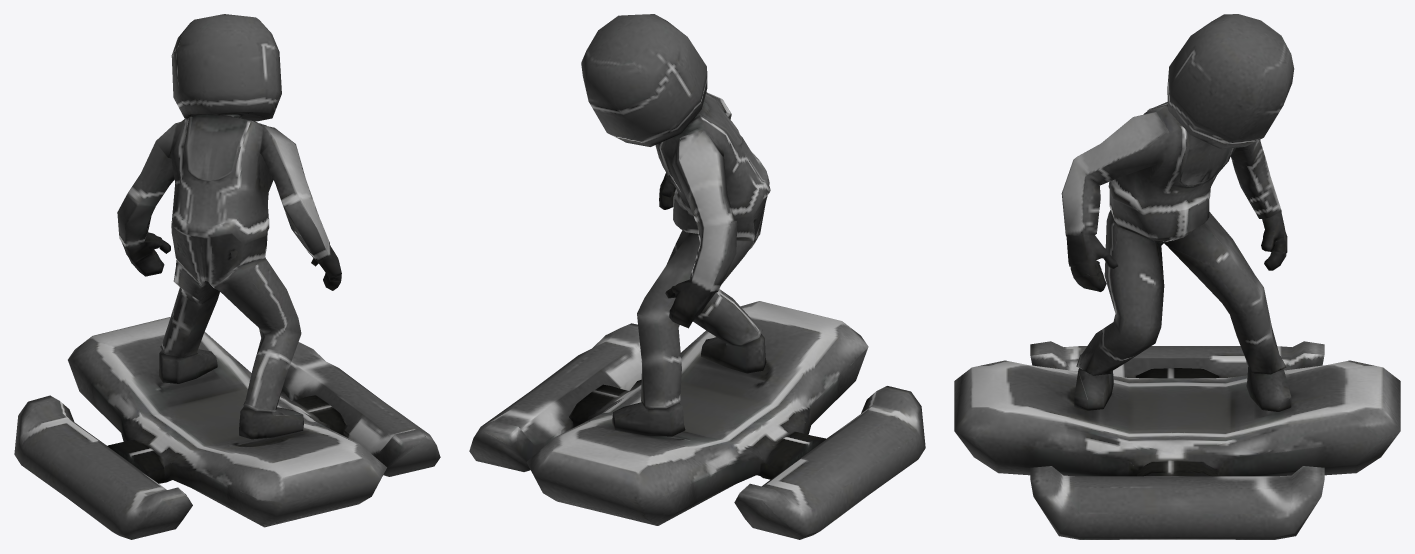
File: hero.glb
The picture shows the model from 3 angles, left to right: view 1: azimuth 30°, elevation 25°; view 2: azimuth 150°, elevation 25°; view 3: azimuth 270°, elevation 25°; orthographic projection. The views are drawn at different scales.
Parts seen in each view (by area): view 1: tripo_node_ce176d74-45cd-4167-b8de-e85ff0a9cd06; view 2: tripo_node_ce176d74-45cd-4167-b8de-e85ff0a9cd06; view 3: tripo_node_ce176d74-45cd-4167-b8de-e85ff0a9cd06.
Part boxes in pixels (x1,y1,x2,y2): tripo_node_ce176d74-45cd-4167-b8de-e85ff0a9cd06: [14, 14, 440, 539]; tripo_node_ce176d74-45cd-4167-b8de-e85ff0a9cd06: [469, 14, 925, 539]; tripo_node_ce176d74-45cd-4167-b8de-e85ff0a9cd06: [954, 14, 1400, 539].
Size of the model in its own units: 0.791 by 0.998 by 0.8926.
Materials: 1 (1 with a texture image).
